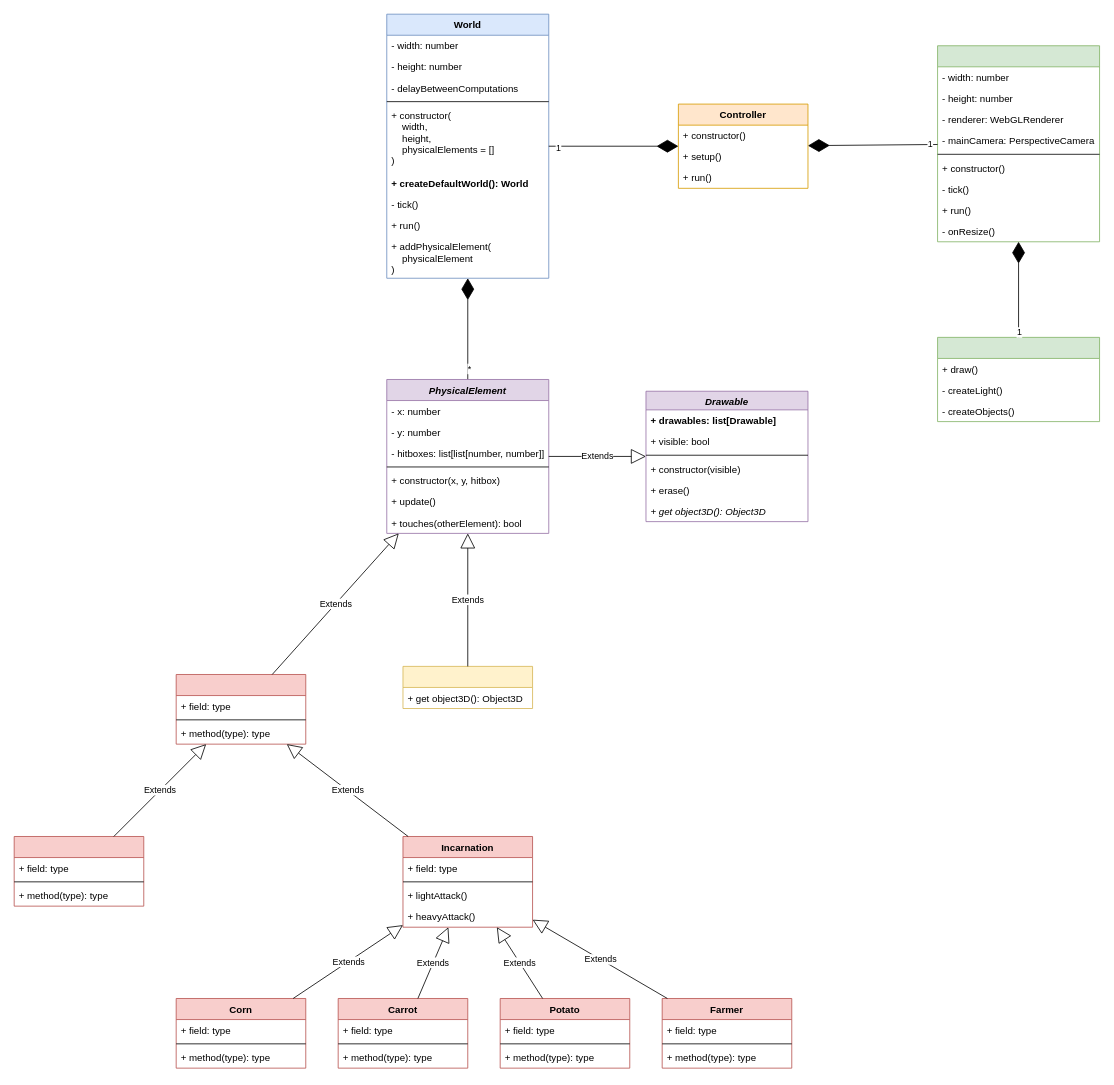
This 1114x1085 diagram has some shape labels left out. Here are the shapes that lost their labels. From the top down, the box of each, then its label:
(937, 45, 1100, 242): View
(937, 337, 1100, 422): GameScene (extends Scene)
(402, 666, 533, 709): Structure
(175, 674, 306, 744): Entity
(13, 836, 144, 906): Item
